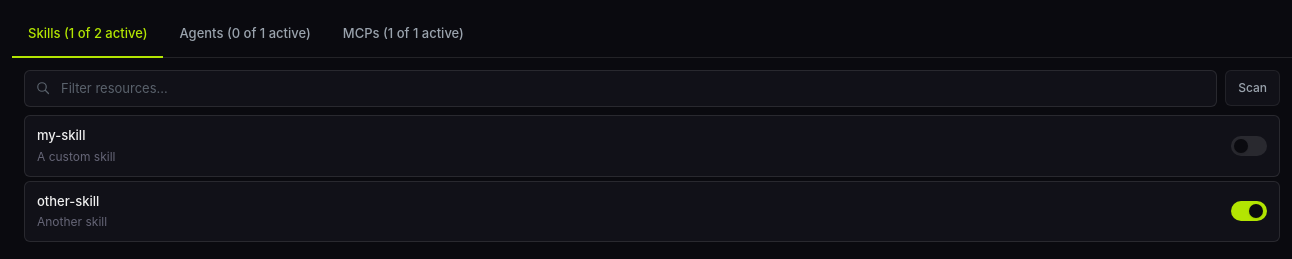
ResourceConfig › data state › switches to mcps tab on click
Click the tab with test id "resource-tab-mcp" at (403, 35), box [327,12,480,58]
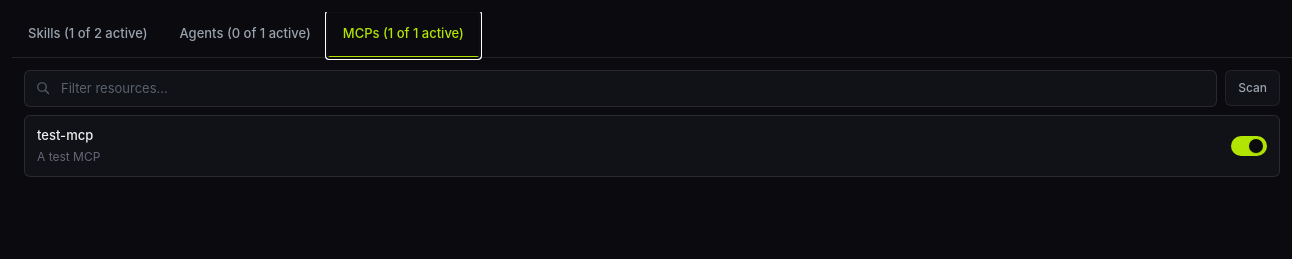
Now the text "test-mcp" is shown, box [37,126,93,146]
